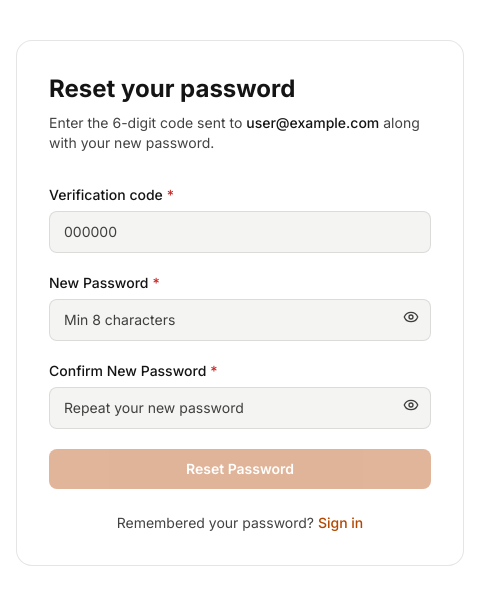
Test: ResetPassword › displays validation errors when fields lose focus with invalid data
Type "short" into the password field labelled "New Password*".
click(240, 320); type("short")  # box x1=49 y1=299 x2=431 y2=341
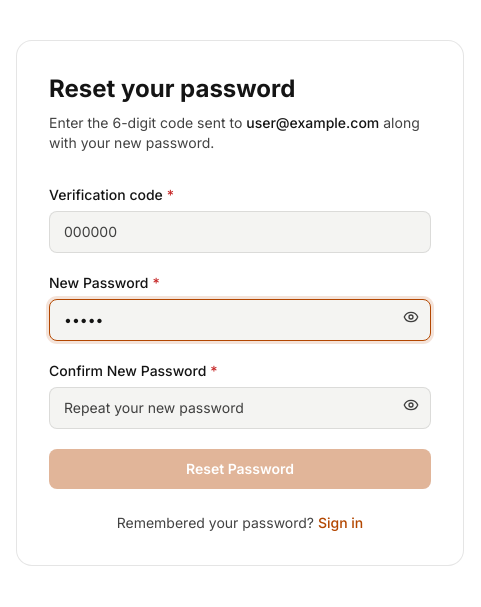
Press Tab
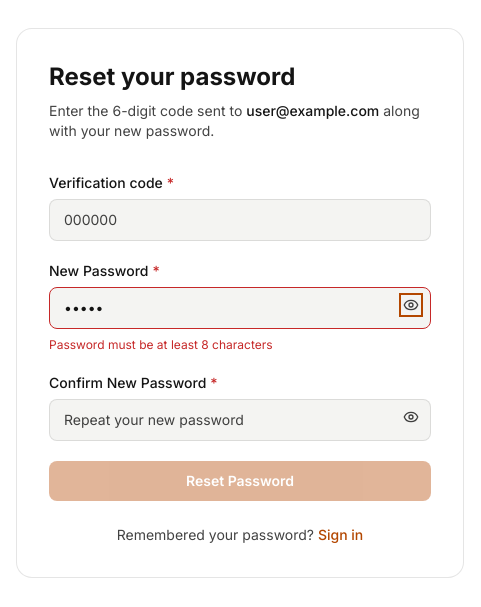
Now the text "Password must be at least 8 characters" is shown, box x1=49 y1=337 x2=273 y2=352
Type "differentpass" into the password field labelled "Confirm New Password*".
click(240, 420); type("differentpass")  # box x1=49 y1=399 x2=431 y2=441
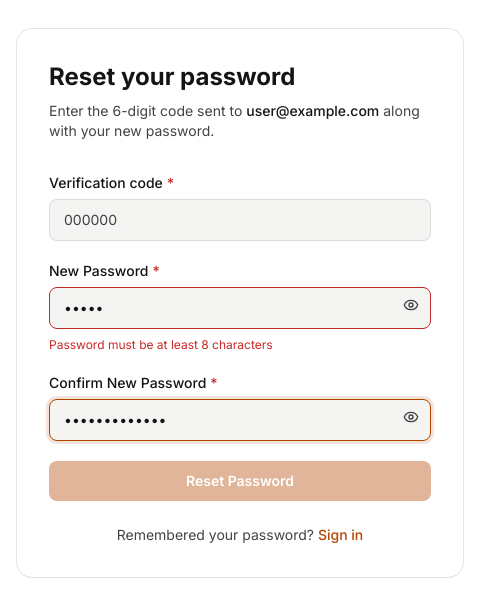
Press Tab
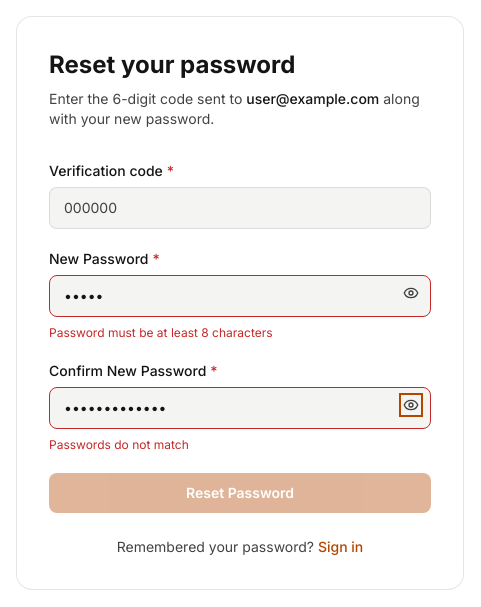
Now the text "Passwords do not match" is shown, box x1=49 y1=437 x2=189 y2=452
